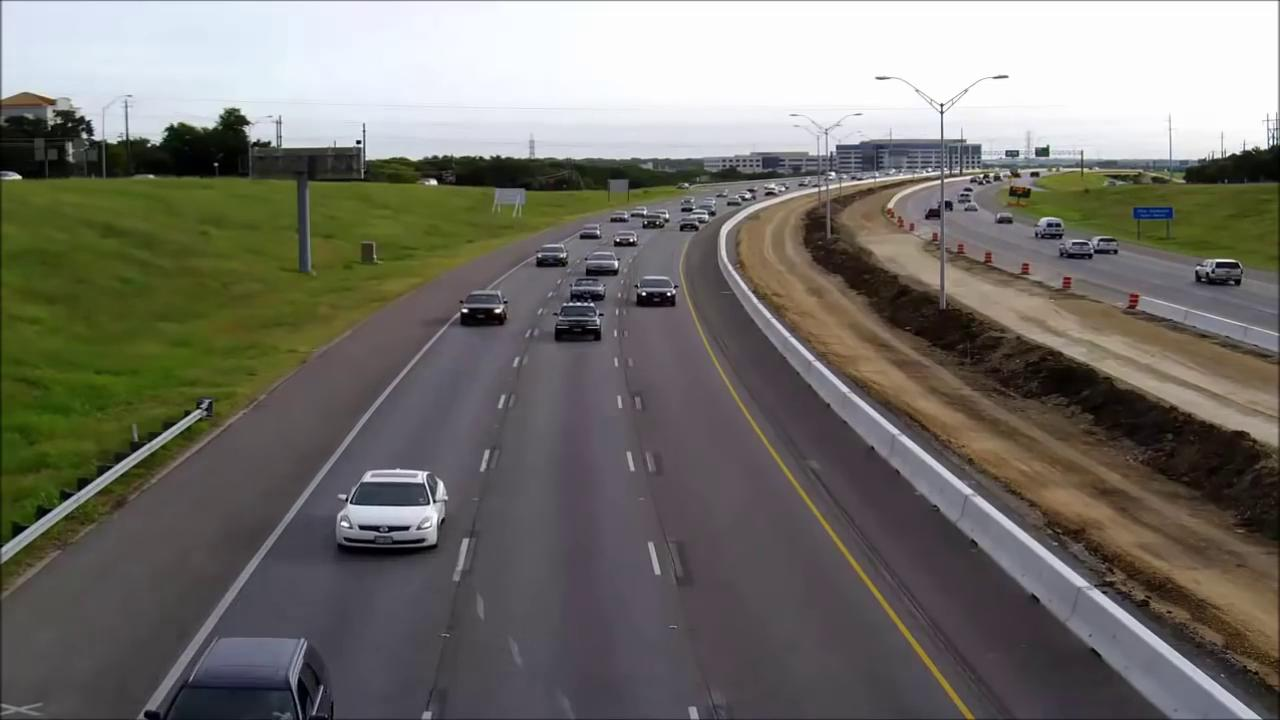car: (143, 634, 336, 720), (338, 466, 452, 550), (456, 290, 509, 327), (558, 303, 604, 339), (1194, 258, 1246, 285), (633, 277, 676, 308), (584, 252, 622, 276), (571, 281, 609, 304), (535, 246, 567, 268), (1061, 241, 1095, 261), (1035, 218, 1065, 239), (1092, 239, 1120, 257), (612, 232, 637, 246), (679, 218, 703, 232), (578, 227, 603, 239), (995, 215, 1016, 226)
